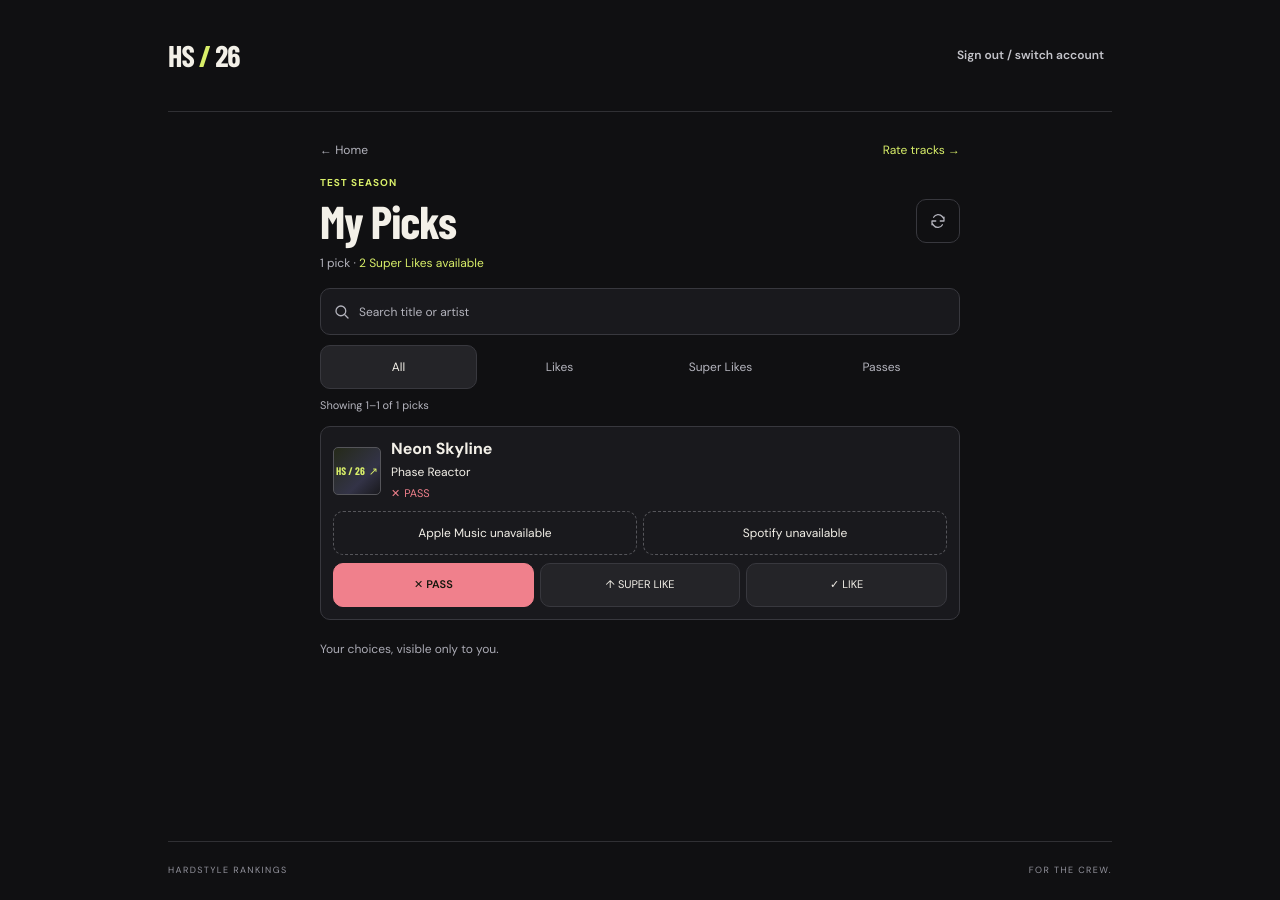
Scenario: My Picks › edits PASS to LIKE using current version and authoritative allowance
This screenshot has width=1280, height=900.
Expected: the element "Neon Skyline" is shown, [320,426,960,620]
Click the button "✓ LIKE": (847, 585) [746,563,947,607]
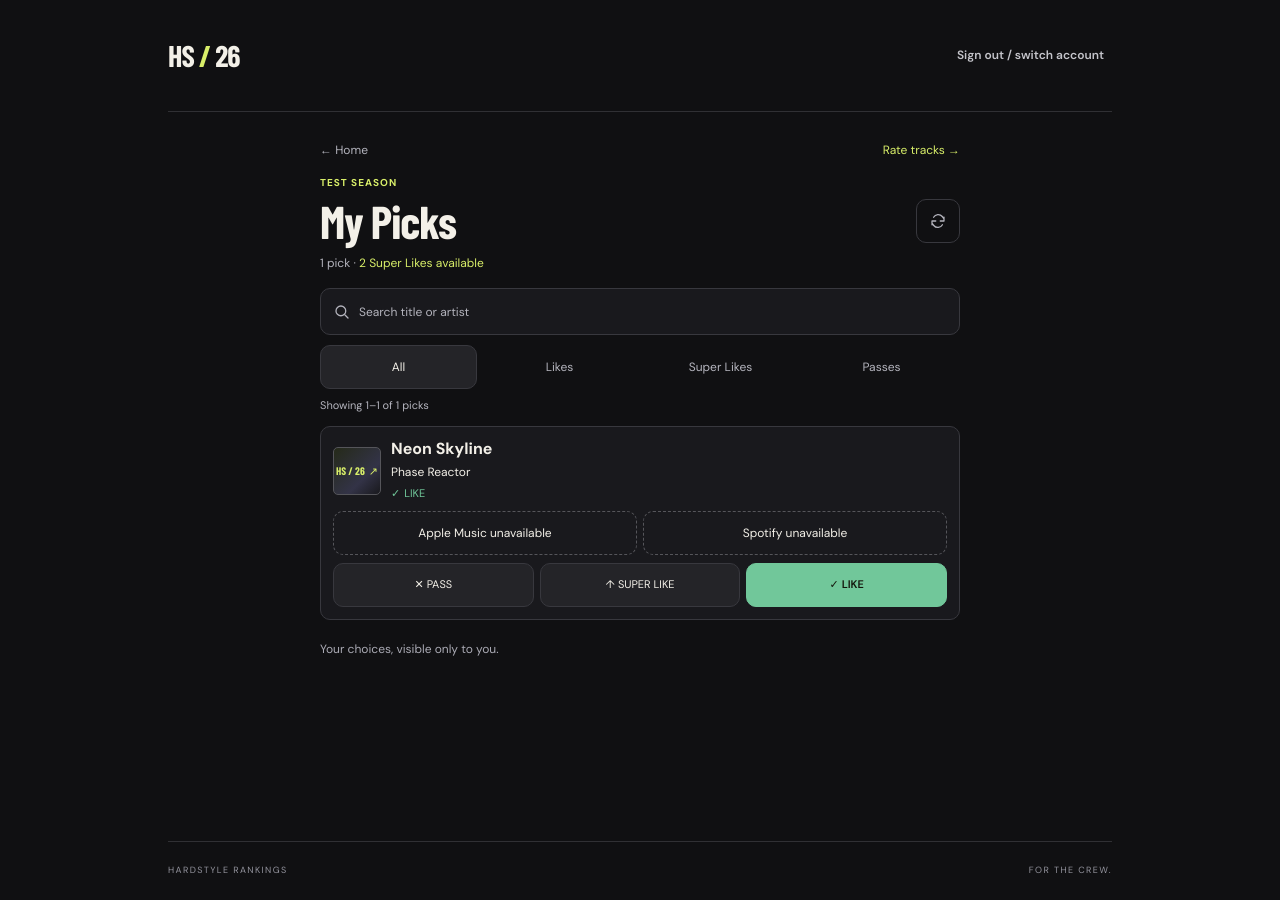
Expected: the text "LIKE" is shown, [404,486,425,500]
